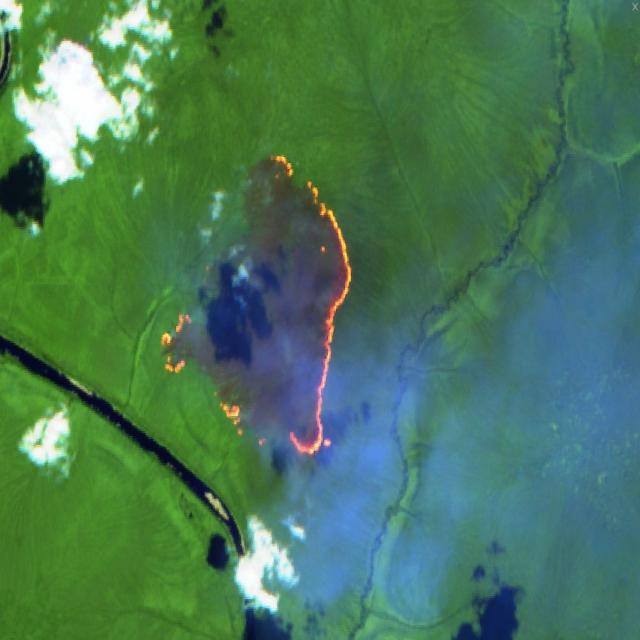fire: (158, 148, 356, 470)
